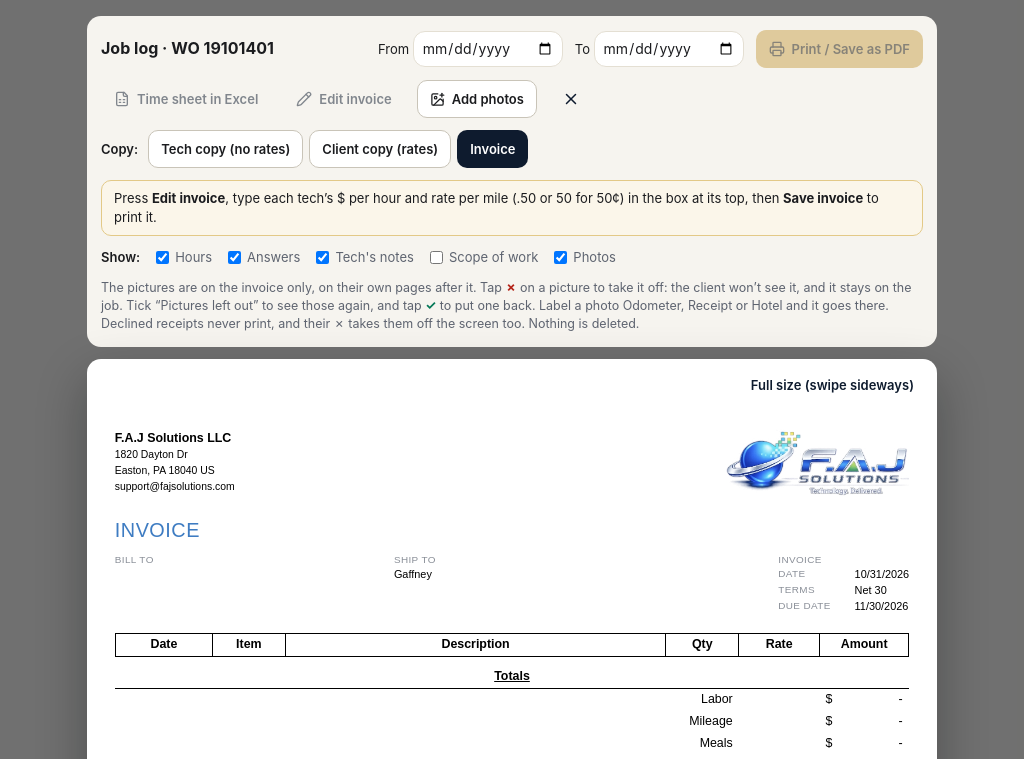
Test case: Job log edited by the office › leaves a day hidden on the Hours screen off the job log
Click the button "Tech copy (no rates)" at (226, 149), box [148,130,303,168]
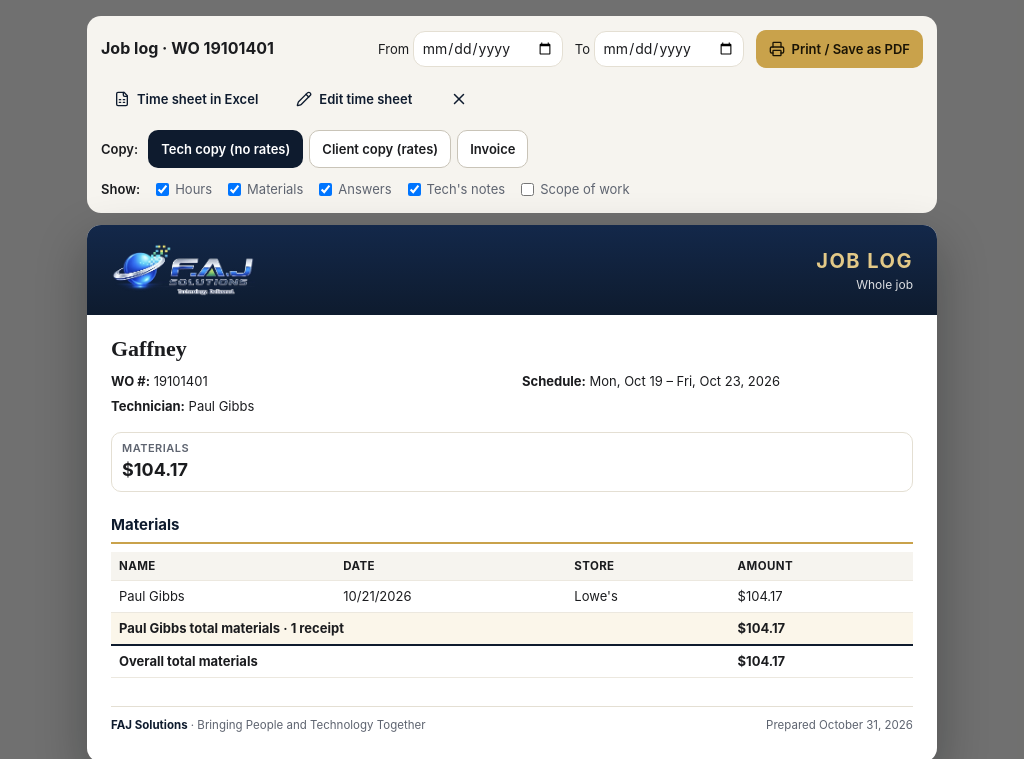
Expected: the button "Edit time sheet" is shown, [283,80,425,118]
Expected: the heading "Materials" is shown, [111,514,913,544]
Expected: the cell "Mileage" is gone
